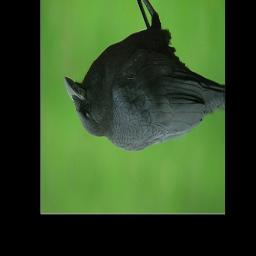Crow: (63, 0, 226, 151)
